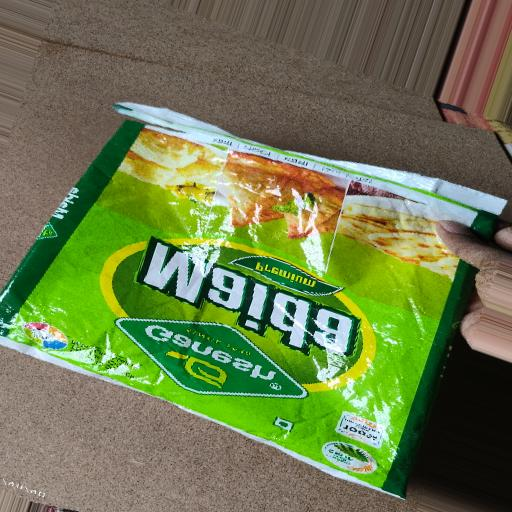Ganesh Maida: (2, 80, 512, 512)
